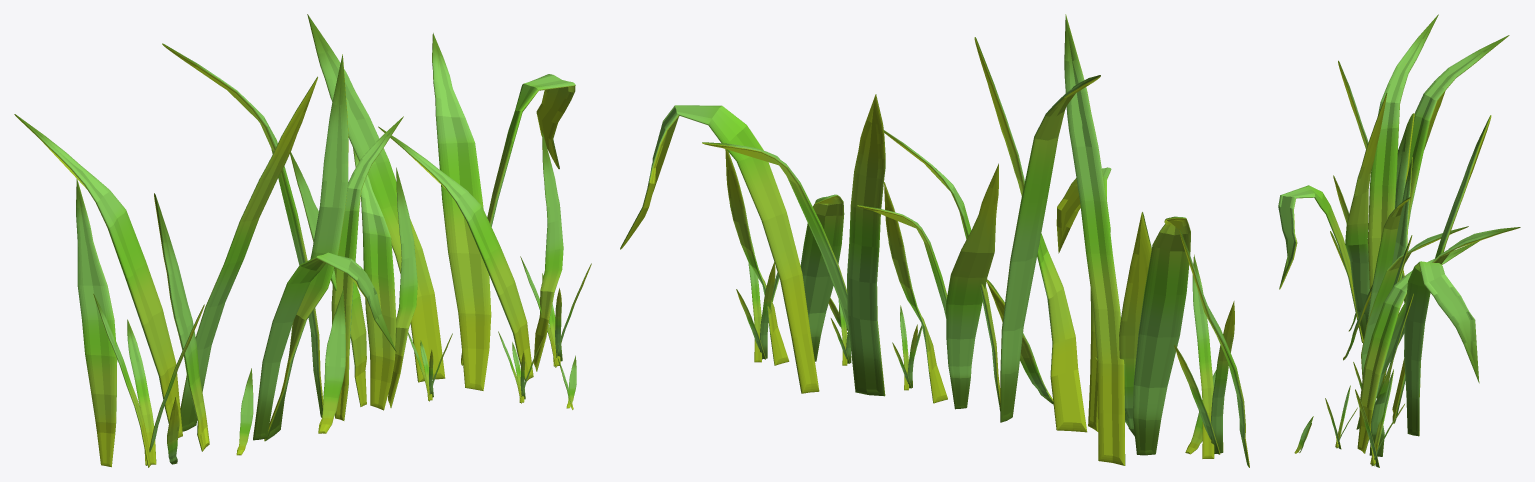
Rendered from grass.glb.
3 renders of one model, left to right at view 1: azimuth 30°, elevation 25°; view 2: azimuth 150°, elevation 25°; view 3: azimuth 270°, elevation 25°, orthographic. The views are drawn at different scales.
Visible parts, largest first — view 1: Cube.066, Cube.061, Cube.062, Cube.067, Cube.057, Cube.052, Cube.083, Cube.063, Cube.060, Cube.084, Cube.053, Cube.068 (+10 smaller); view 2: Cube.052, Cube.053, Cube.062, Cube.061, Cube.064, Cube.059, Cube.057, Cube.060, Cube.068, Cube.066, Cube.074, Cube.065 (+10 smaller); view 3: Cube.053, Cube.064, Cube.057, Cube.060, Cube.062, Cube.063, Cube.083, Cube.061, Cube.084, Cube.066, Cube.065, Cube.068 (+5 smaller).
Boxes of the visible parts, bbox=[...] form: Cube.066: bbox=[432, 33, 491, 390]; Cube.061: bbox=[307, 14, 445, 382]; Cube.062: bbox=[14, 114, 182, 437]; Cube.067: bbox=[76, 178, 117, 467]; Cube.057: bbox=[264, 54, 348, 441]; Cube.052: bbox=[180, 76, 317, 431]; Cube.083: bbox=[353, 148, 396, 410]; Cube.063: bbox=[253, 252, 396, 440]; Cube.060: bbox=[378, 126, 533, 381]; Cube.084: bbox=[331, 116, 403, 420]; Cube.053: bbox=[461, 74, 575, 365]; Cube.068: bbox=[154, 193, 209, 451]; Cube.052: bbox=[1064, 14, 1125, 465]; Cube.053: bbox=[620, 105, 819, 393]; Cube.062: bbox=[1133, 216, 1190, 455]; Cube.061: bbox=[847, 94, 885, 396]; Cube.064: bbox=[1000, 75, 1100, 422]; Cube.059: bbox=[946, 163, 998, 409]; Cube.057: bbox=[974, 37, 1087, 432]; Cube.060: bbox=[800, 194, 844, 361]; Cube.068: bbox=[1119, 212, 1151, 436]; Cube.066: bbox=[702, 142, 849, 334]; Cube.074: bbox=[884, 182, 947, 403]; Cube.065: bbox=[725, 149, 789, 365]; Cube.053: bbox=[1404, 261, 1479, 436]; Cube.064: bbox=[1368, 14, 1438, 289]; Cube.057: bbox=[1345, 93, 1387, 339]; Cube.060: bbox=[1357, 241, 1479, 453]; Cube.062: bbox=[1408, 35, 1509, 228]; Cube.063: bbox=[1278, 185, 1363, 342]; Cube.083: bbox=[1361, 226, 1468, 378]; Cube.061: bbox=[1392, 115, 1491, 423]; Cube.084: bbox=[1367, 197, 1410, 322]; Cube.066: bbox=[1356, 227, 1520, 429]; Cube.065: bbox=[1369, 293, 1413, 456]; Cube.068: bbox=[1395, 113, 1414, 208].
Bounding box in the file's own units: 4.11 × 2.89 × 2.01.
1 material, 1 textured.
